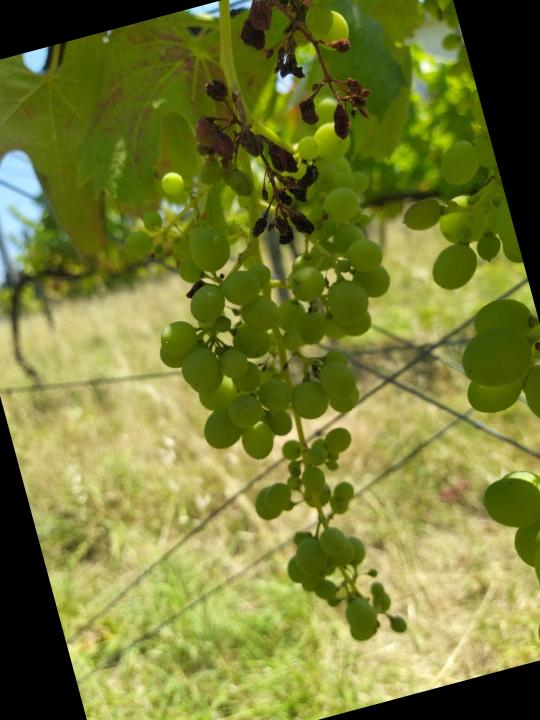grape: (100, 93, 490, 685), (159, 0, 407, 266)
